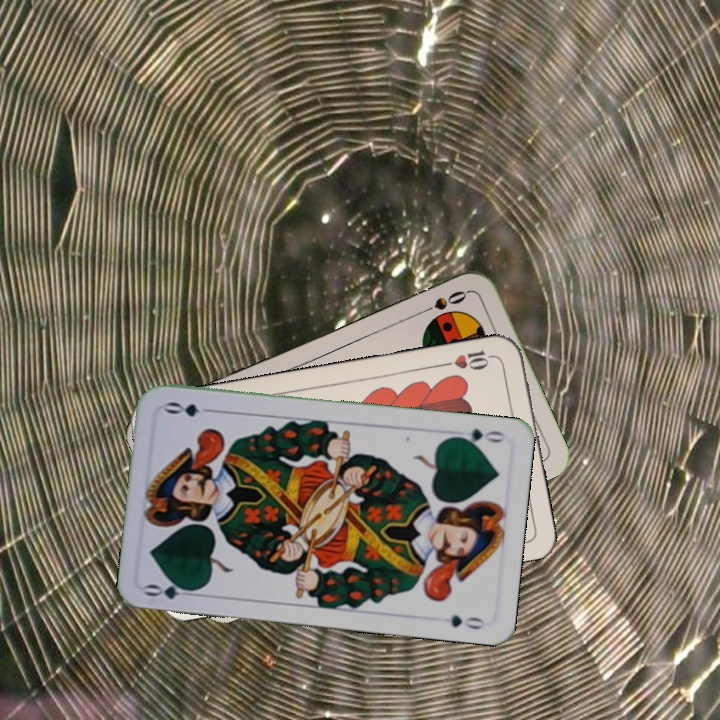GO: (141, 576, 201, 602), (449, 424, 508, 448)
H10: (439, 346, 498, 373)
SO: (414, 286, 470, 318)
